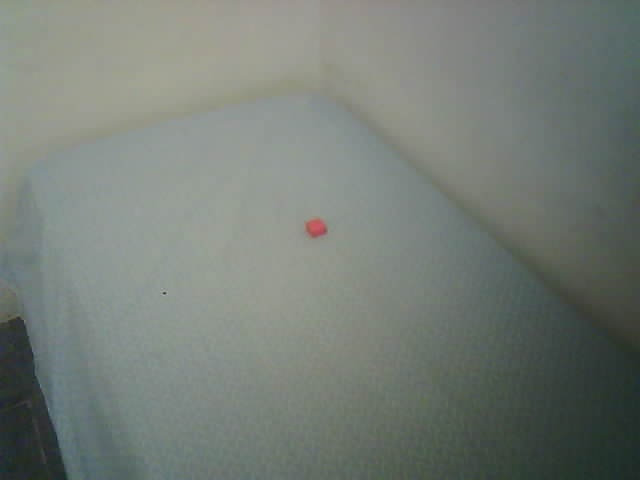lego: (303, 217, 327, 238)
